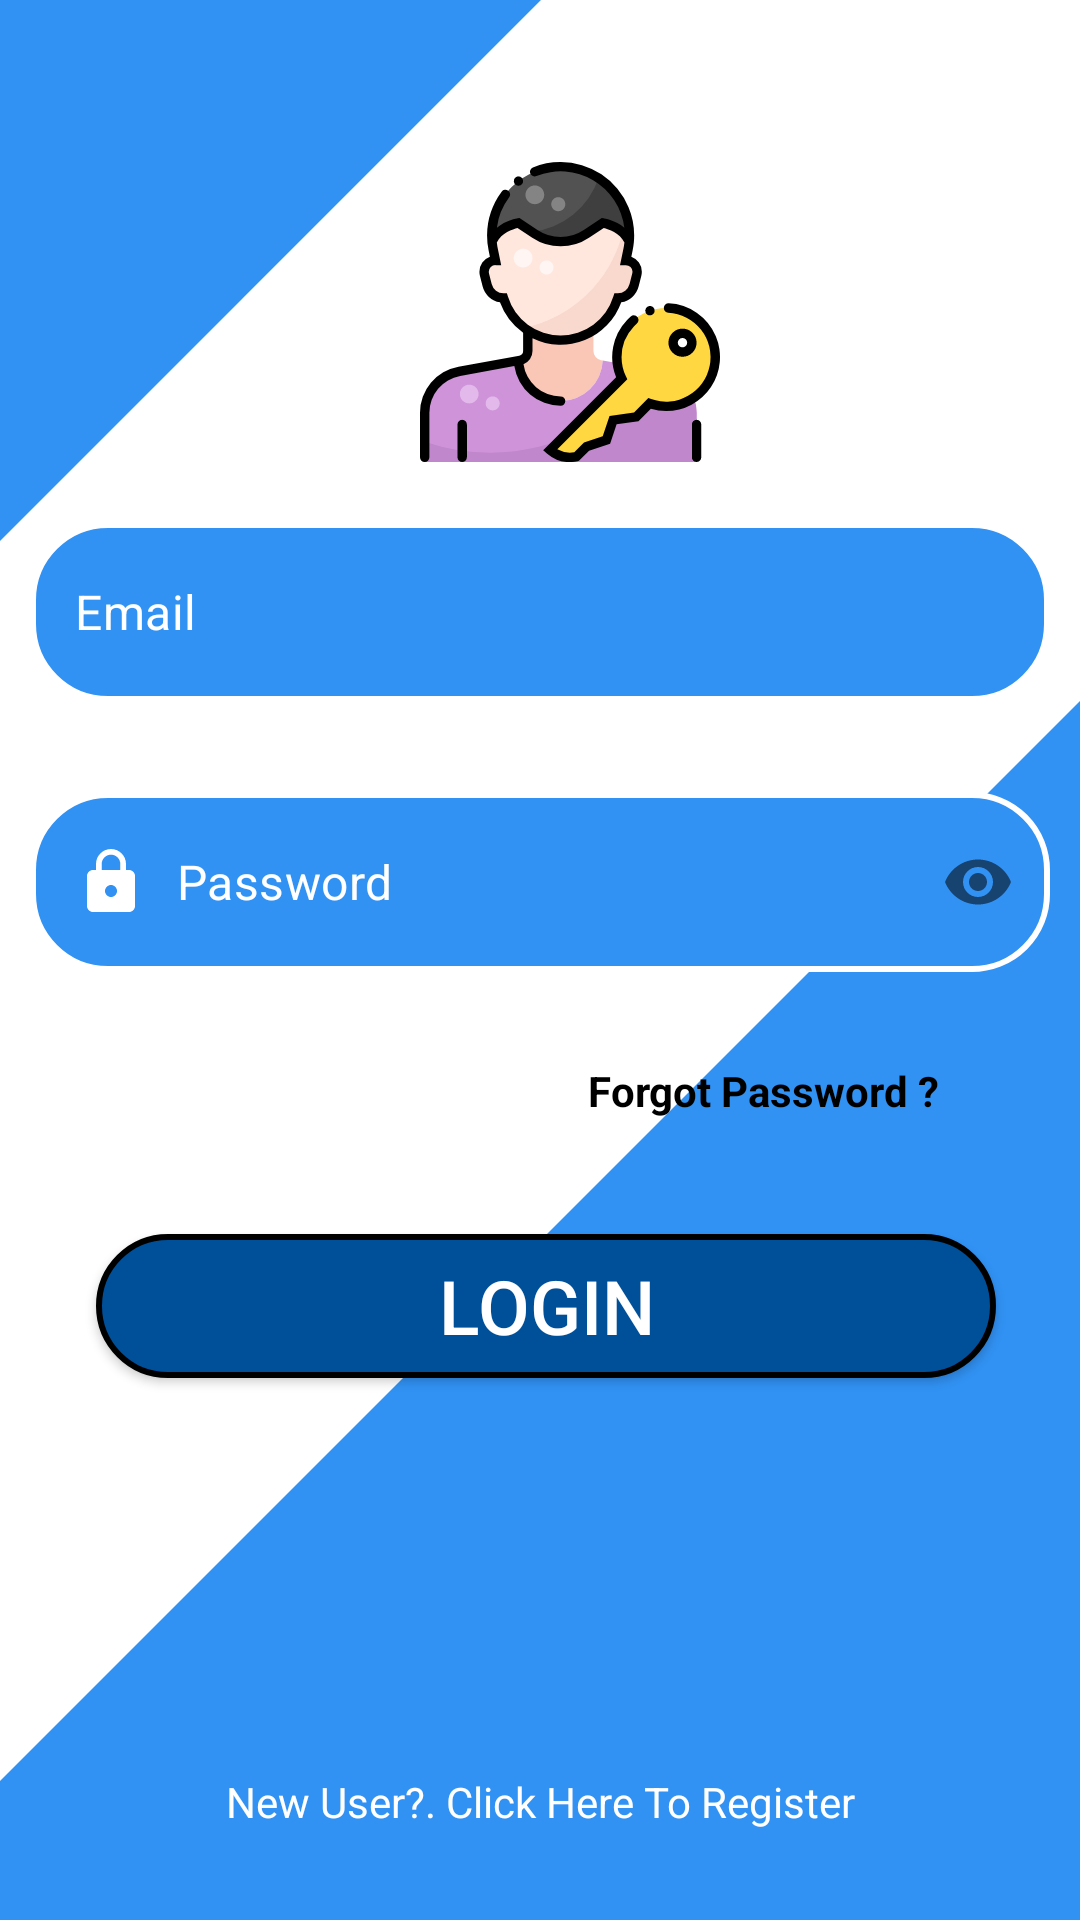

Icon click points for this 1080 x 1920 phone screenshot, format (x=x, y=y):
key: (x=570, y=312)
